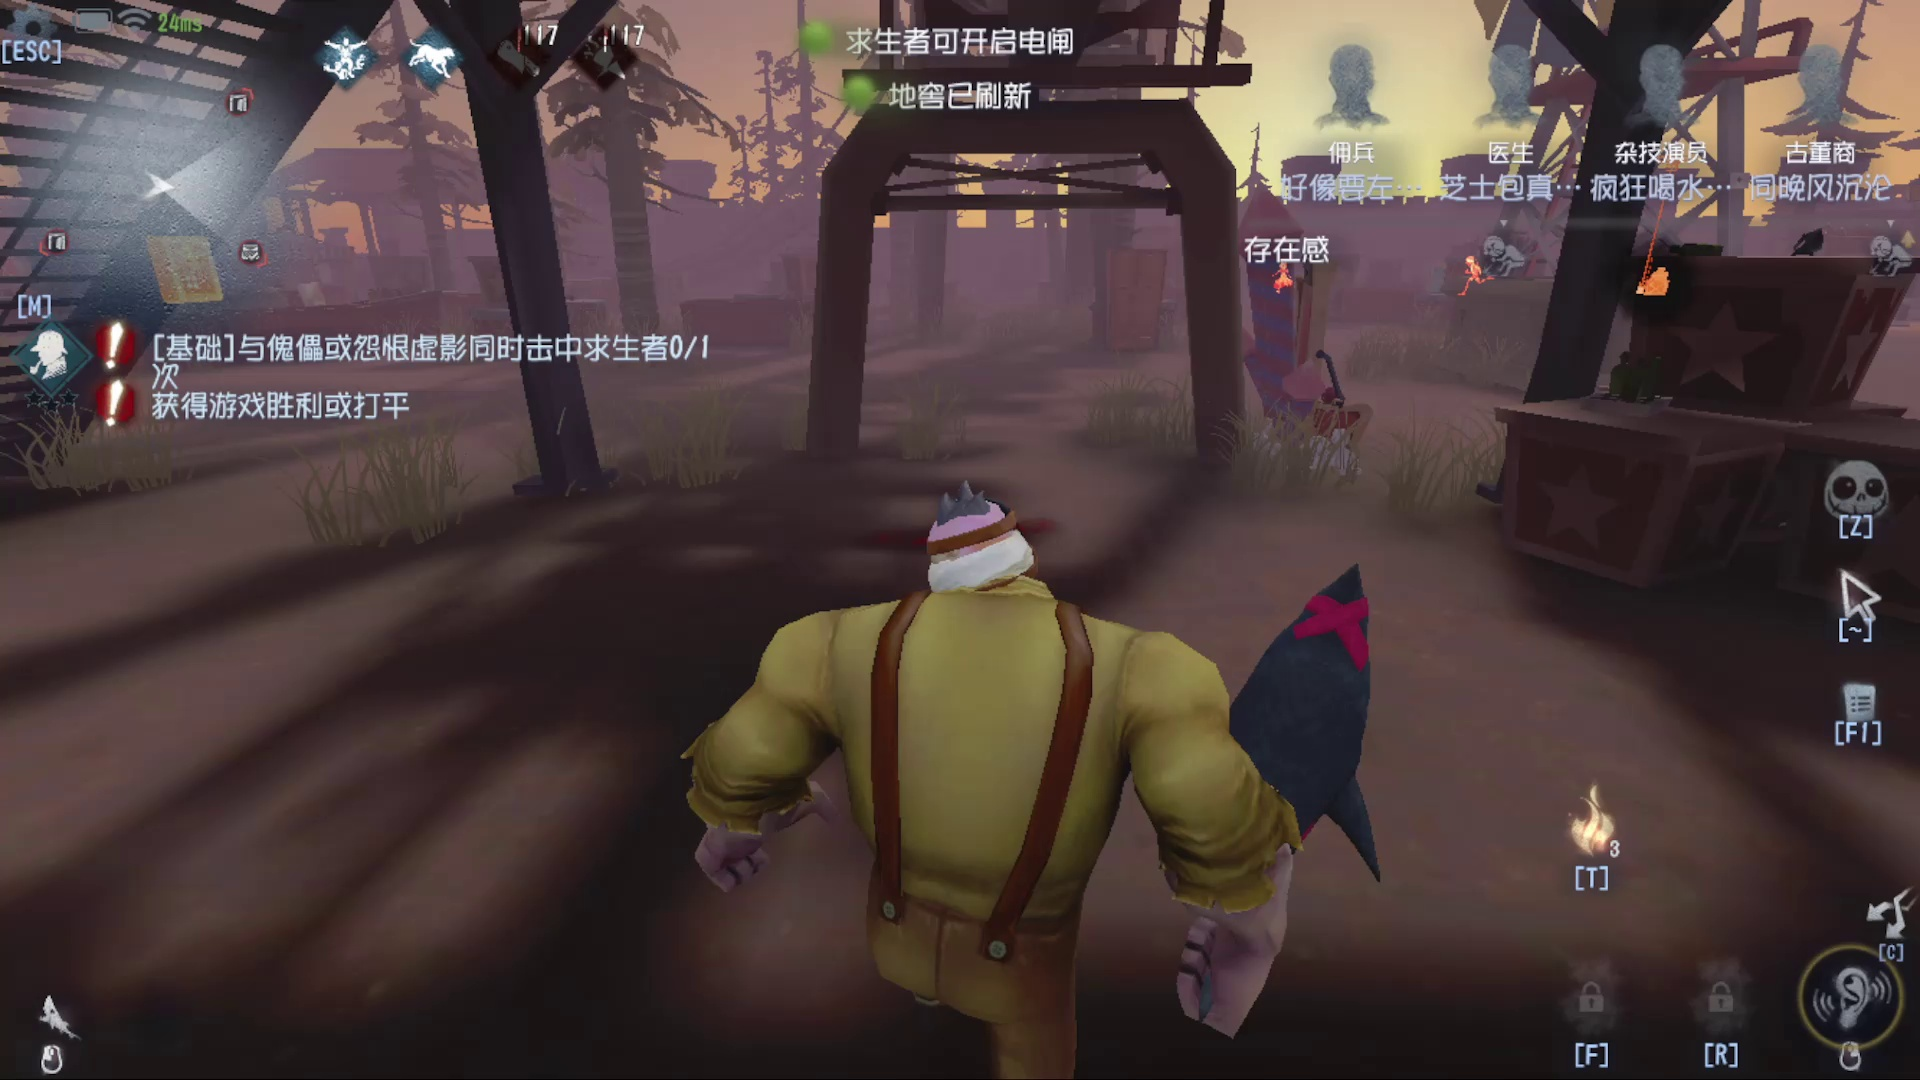密码机: (1611, 138, 1702, 314)
求生者: (1453, 251, 1495, 305), (1273, 251, 1309, 298)
狂欢之椅: (1224, 173, 1399, 473)
